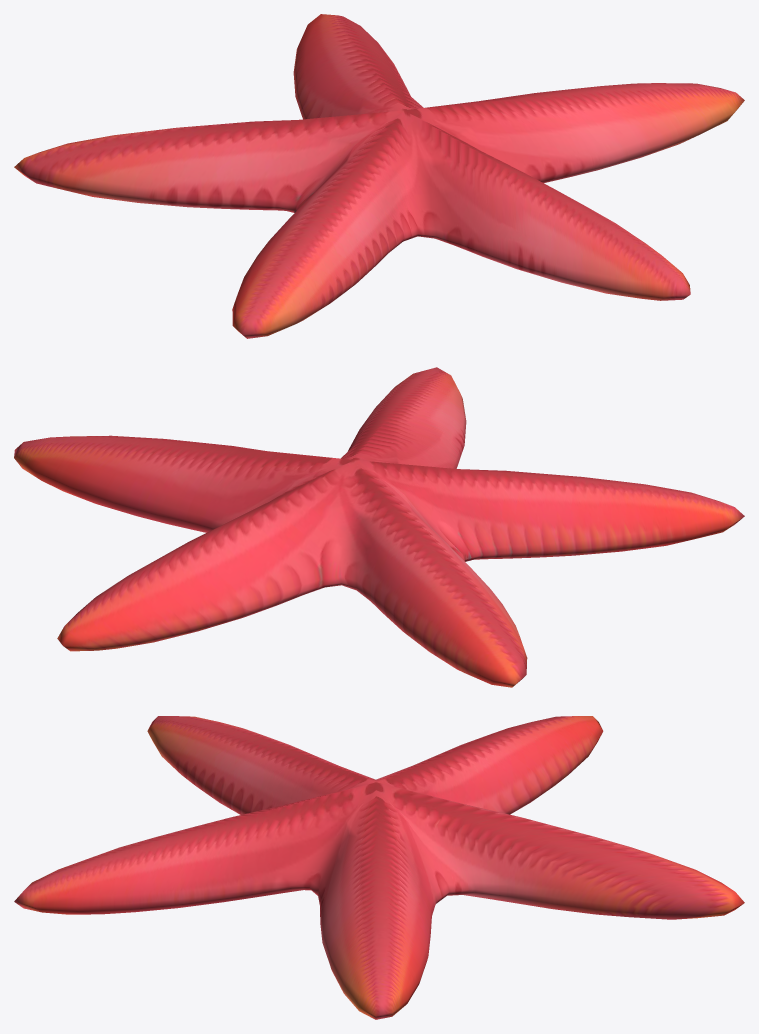
File: estrella.fbx
3 renders of one model, top to bottom at view 1: azimuth 30°, elevation 25°; view 2: azimuth 150°, elevation 25°; view 3: azimuth 270°, elevation 25°, orthographic. The views are drawn at different scales.
Visible parts, largest first — view 1: estrella:pCylinder2; view 2: estrella:pCylinder2; view 3: estrella:pCylinder2.
Part boxes in pixels (bbox=[...]): estrella:pCylinder2: bbox=[14, 14, 744, 338]; estrella:pCylinder2: bbox=[14, 367, 744, 687]; estrella:pCylinder2: bbox=[14, 716, 744, 1019].
Bounding box in the file's own units: 1.86 × 0.2757 × 1.96.
